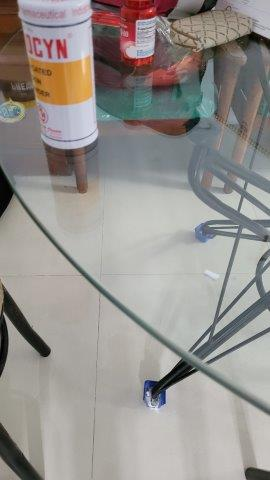kaleng: (19, 1, 100, 151)
